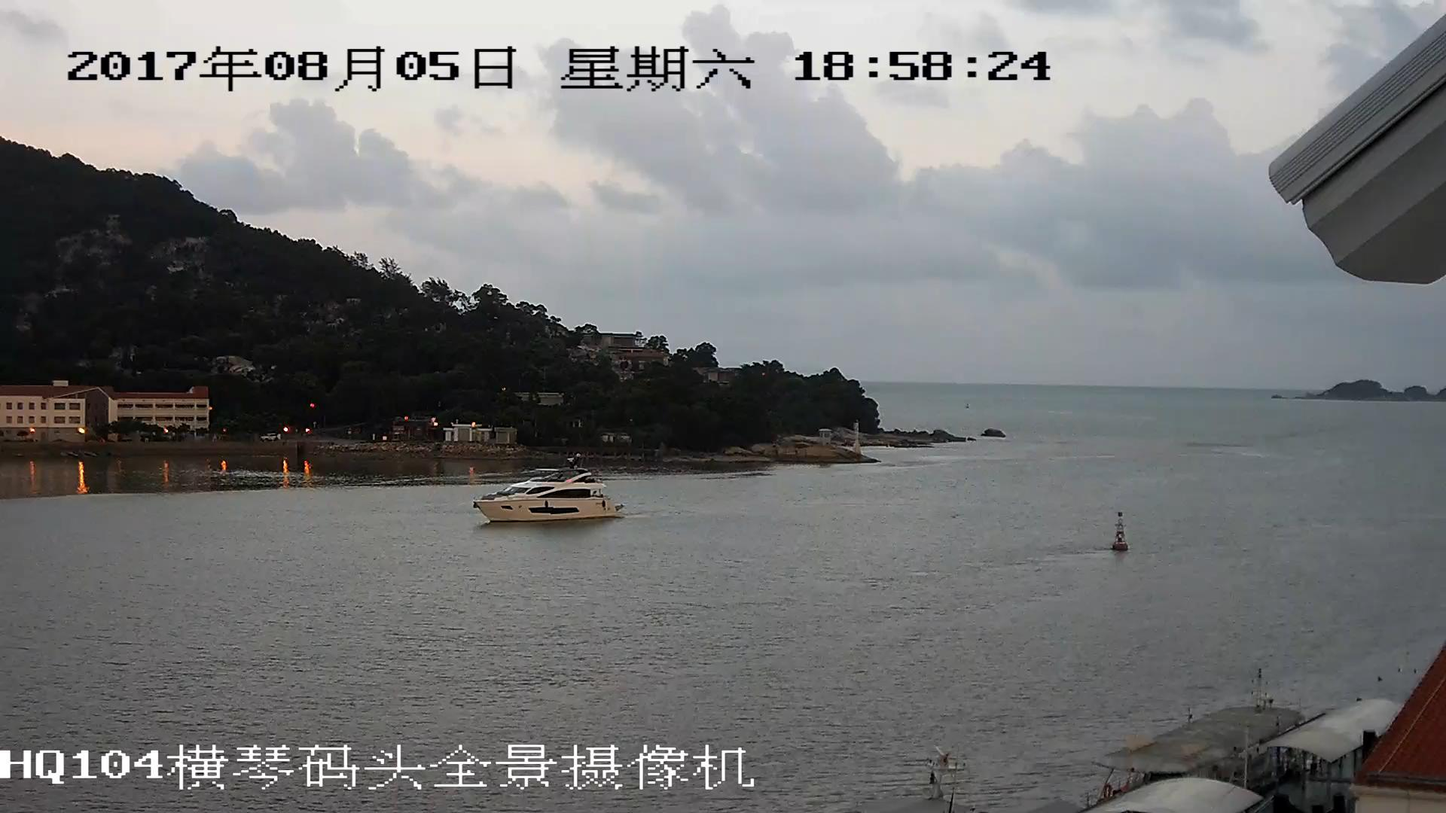passenger ship: (473, 464, 614, 522)
